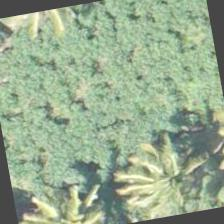Kelapa_Sawit: (114, 116, 218, 219), (28, 169, 128, 223)
